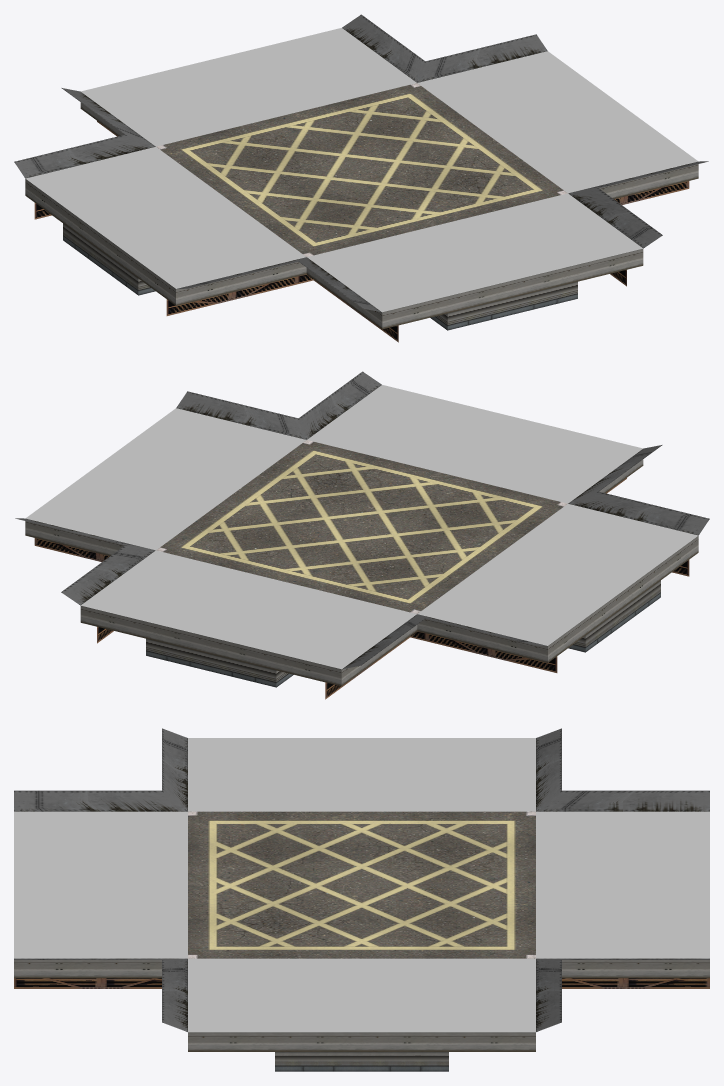
Rendered from Crossing.fbx.
3 renders of one model, top to bottom at view 1: azimuth 30°, elevation 25°; view 2: azimuth 150°, elevation 25°; view 3: azimuth 270°, elevation 25°, orthographic. The views are drawn at different scales.
Visible parts, largest first — view 1: Empty_Mesh; view 2: Empty_Mesh; view 3: Empty_Mesh.
Boxes of the visible parts, left/top/right/bottom form: Empty_Mesh: left=14, top=14, right=708, bottom=342; Empty_Mesh: left=15, top=371, right=709, bottom=699; Empty_Mesh: left=14, top=728, right=709, bottom=1071.
Size of the model in its own units: 32 by 2.5 by 32.
